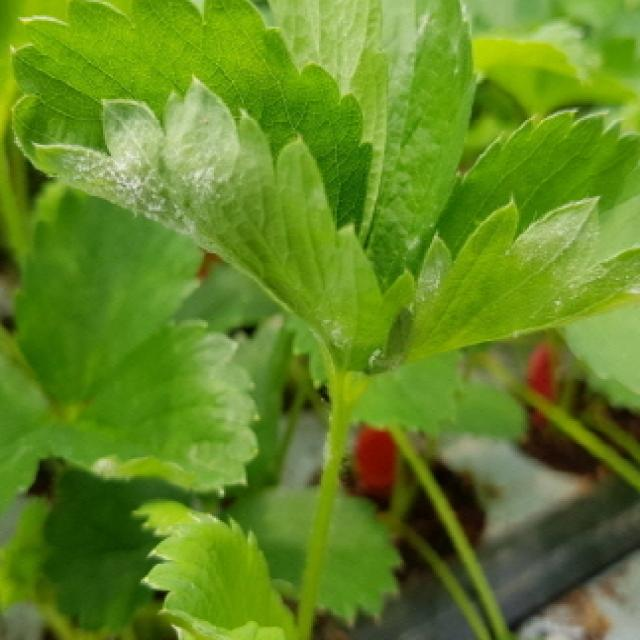Powdery Mildew Leaf: (7, 0, 420, 382), (386, 110, 640, 367)
